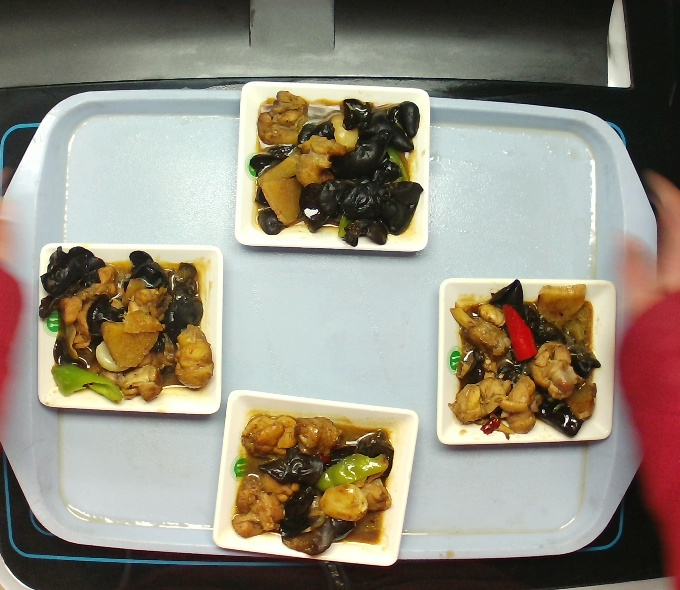wcq-MuErJiRou: (254, 84, 426, 254), (452, 267, 595, 452), (56, 244, 208, 401), (238, 402, 384, 560)
